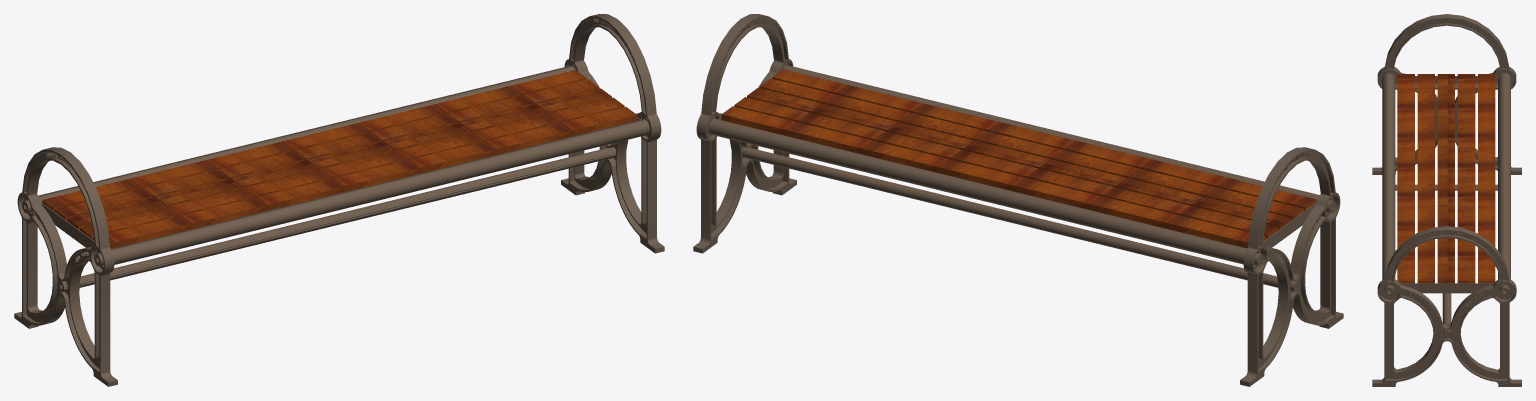
The picture shows the model from 3 angles, left to right: view 1: azimuth 30°, elevation 25°; view 2: azimuth 150°, elevation 25°; view 3: azimuth 270°, elevation 25°; orthographic projection. The views are drawn at different scales.
Parts seen in each view (by area): view 1: mesh19_mesh19-geometry, mesh1_mesh1-geometry; view 2: mesh19_mesh19-geometry, mesh1_mesh1-geometry; view 3: mesh19_mesh19-geometry, mesh1_mesh1-geometry.
Part boxes in pixels (<box>): mesh19_mesh19-geometry: <box>38,65,649,264</box>; mesh1_mesh1-geometry: <box>14,14,664,386</box>; mesh19_mesh19-geometry: <box>708,65,1319,264</box>; mesh1_mesh1-geometry: <box>693,14,1343,386</box>; mesh19_mesh19-geometry: <box>1382,73,1510,293</box>; mesh1_mesh1-geometry: <box>1372,14,1521,386</box>.
Size of the model in its own units: 0.9124 by 0.3097 by 0.2676.
